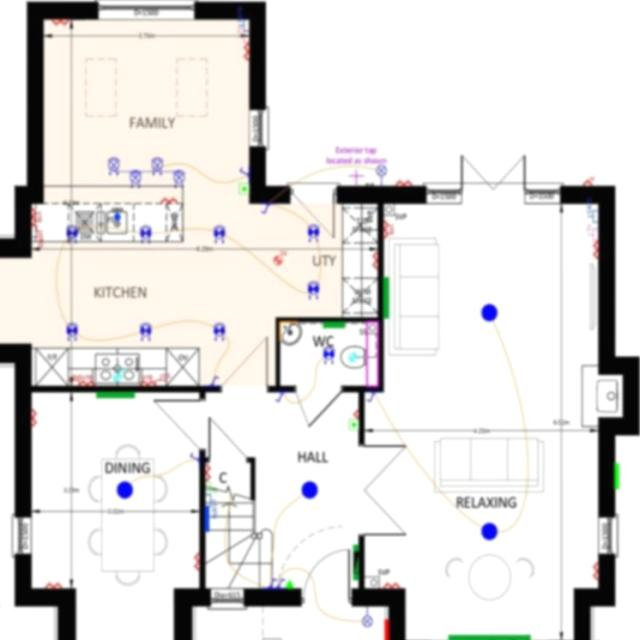BT Entry Point: (285, 579, 292, 588)
Cat 6 Data Socket: (205, 493, 216, 518), (586, 203, 597, 222), (236, 17, 249, 30)
Ceiling Mounted Continuous Extract FanWith Boost Mode Activated By Light Switch: (348, 352, 357, 360)
Ceiling Mounted Continuous Extract FanWith Local Boost Switch: (272, 250, 286, 265)
Co-Ax TV Socket: (585, 223, 597, 239)
Consumer Unit: (352, 551, 358, 573)
Double Socket: (51, 18, 68, 27), (30, 408, 38, 426), (160, 195, 177, 203), (44, 580, 61, 588), (590, 241, 598, 258), (242, 43, 249, 61), (191, 552, 198, 570), (590, 561, 597, 579), (370, 252, 377, 270), (394, 178, 412, 185), (383, 580, 398, 588), (204, 464, 211, 481)
Electric Meter Box: (383, 618, 388, 640)
External Wall Light: (346, 168, 363, 185), (375, 165, 387, 185), (362, 606, 372, 626)
Gas Meter Box: (614, 463, 618, 488)
Grid Switch: (31, 226, 43, 247)
Hob Switch: (68, 373, 80, 385)
Light Switch: (238, 166, 248, 177), (274, 391, 284, 402), (365, 391, 375, 402), (267, 577, 276, 587), (276, 577, 285, 587), (260, 203, 268, 214), (189, 451, 197, 462), (209, 376, 218, 385)
Low Energy Downlighter: (212, 225, 225, 244), (138, 322, 151, 341), (306, 224, 319, 243), (306, 280, 319, 298), (138, 225, 151, 242), (65, 225, 77, 243), (322, 346, 334, 364), (65, 322, 77, 339), (213, 322, 225, 339)
Low Energy Pendant Light: (300, 480, 318, 498), (479, 303, 496, 321), (479, 522, 496, 539), (116, 480, 132, 498)
Outside Socket: (582, 176, 594, 185)
Oven Switch: (155, 372, 169, 386)
Programmable Room Thermostat: (238, 182, 249, 194), (348, 418, 358, 429)
Radiator: (447, 634, 529, 640), (382, 276, 388, 318), (95, 391, 134, 397), (352, 544, 358, 579), (323, 321, 344, 328)
Recirculating Extractor Fan: (112, 368, 124, 380)
Single Socket: (352, 409, 358, 419)
TV - Satellite Multisocket: (236, 26, 248, 41)
Telephone Socket: (204, 481, 215, 494)
Track Light: (106, 156, 184, 188)
USB Double Socket: (382, 220, 393, 238), (30, 208, 41, 225), (138, 374, 155, 385), (79, 373, 93, 385)
Underfloor Heating Manifold: (204, 505, 208, 531)
Water Entry Position: (113, 212, 119, 220)
